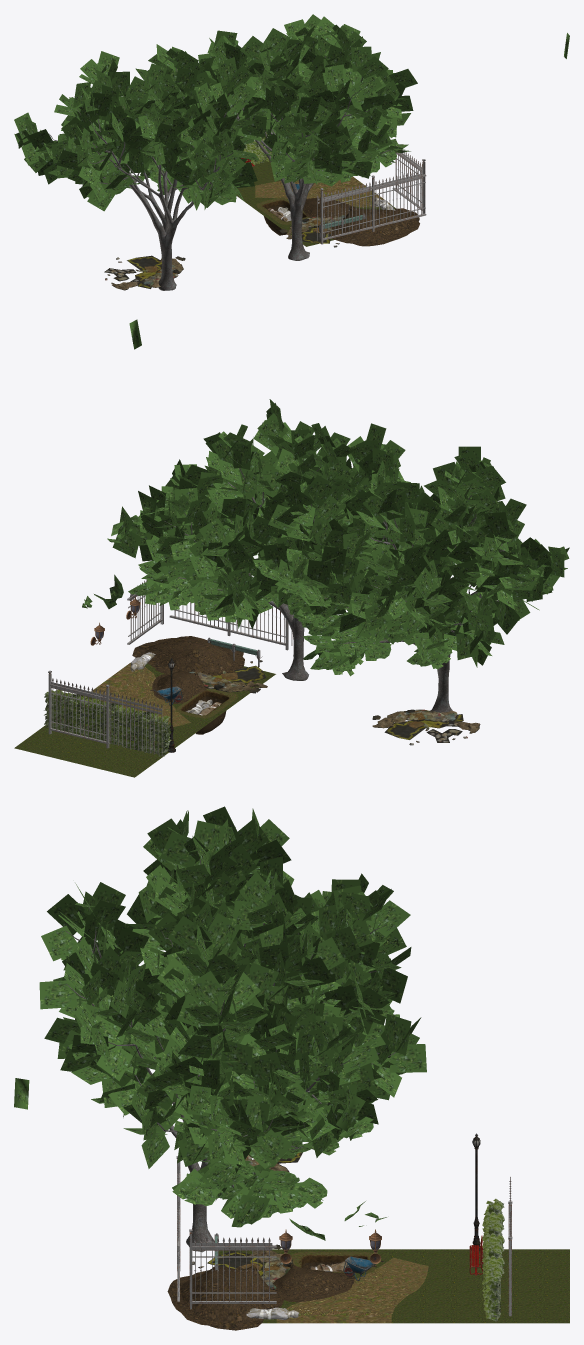
File: sm301_01_201room_02.fbx
3 views of the same model, one above another, from view 1: azimuth 30°, elevation 25°; view 2: azimuth 150°, elevation 25°; view 3: azimuth 270°, elevation 25° (orthographic). The views are drawn at different scales.
Visible parts, largest first — view 1: 0052_sm10006LargeTree01A00ms_1_Group_2_Sub_1__sm10_006__f997, 0048_sm10006LargeTree01A00ms_1_Group_0_Sub_1__sm10_006__f92f, 0041_sm25066townFence01A00ms_1_Group_0_Sub_1__st1_townP_e998, 0008_st42010Terrain00ms_1_Group_0_Sub_9__st1_GroundWild02_Ma, 0047_sm25011garbage01A00ms_1_Group_0_Sub_1__sm25_011_ga_d817, 0013_st42010Terrain00ms_1_Group_0_Sub_14__st1_GroundDec_951c, 0011_st42010Terrain00ms_1_Group_0_Sub_12__st1_GroundWild01_M, 0050_sm10006LargeTree01A00ms_1_Group_1_Sub_1__sm10_006__ad8f, 0012_st42010Terrain00ms_1_Group_0_Sub_13__st1_GroundBor_7a01, 0095_sm10014BoxWood01A00ms_1_Group_0_Sub_1__sm10_014_Bo_0bc4; view 2: 0052_sm10006LargeTree01A00ms_1_Group_2_Sub_1__sm10_006__f997, 0041_sm25066townFence01A00ms_1_Group_0_Sub_1__st1_townP_e998, 0011_st42010Terrain00ms_1_Group_0_Sub_12__st1_GroundWild01_M, 0008_st42010Terrain00ms_1_Group_0_Sub_9__st1_GroundWild02_Ma, 0095_sm10014BoxWood01A00ms_1_Group_0_Sub_1__sm10_014_Bo_0bc4, 0047_sm25011garbage01A00ms_1_Group_0_Sub_1__sm25_011_ga_d817, 0013_st42010Terrain00ms_1_Group_0_Sub_14__st1_GroundDec_951c, 0048_sm10006LargeTree01A00ms_1_Group_0_Sub_1__sm10_006__f92f, 0012_st42010Terrain00ms_1_Group_0_Sub_13__st1_GroundBor_7a01; view 3: 0052_sm10006LargeTree01A00ms_1_Group_2_Sub_1__sm10_006__f997, 0011_st42010Terrain00ms_1_Group_0_Sub_12__st1_GroundWild01_M, 0008_st42010Terrain00ms_1_Group_0_Sub_9__st1_GroundWild02_Ma, 0013_st42010Terrain00ms_1_Group_0_Sub_14__st1_GroundDec_951c, 0041_sm25066townFence01A00ms_1_Group_0_Sub_1__st1_townP_e998, 0047_sm25011garbage01A00ms_1_Group_0_Sub_1__sm25_011_ga_d817, 0095_sm10014BoxWood01A00ms_1_Group_0_Sub_1__sm10_014_Bo_0bc4, 0048_sm10006LargeTree01A00ms_1_Group_0_Sub_1__sm10_006__f92f, 0012_st42010Terrain00ms_1_Group_0_Sub_13__st1_GroundBor_7a01, 0094_sm10014BoxWood01A00ms_1_Group_0_Sub_1__sm10_014_Bo_2409.
Part boxes in pixels (bbox=[...]): 0052_sm10006LargeTree01A00ms_1_Group_2_Sub_1__sm10_006__f997: bbox=[14, 14, 569, 211]; 0048_sm10006LargeTree01A00ms_1_Group_0_Sub_1__sm10_006__f92f: bbox=[49, 56, 360, 290]; 0041_sm25066townFence01A00ms_1_Group_0_Sub_1__st1_townP_e998: bbox=[317, 149, 426, 244]; 0008_st42010Terrain00ms_1_Group_0_Sub_9__st1_GroundWild02_Ma: bbox=[264, 197, 419, 246]; 0047_sm25011garbage01A00ms_1_Group_0_Sub_1__sm25_011_ga_d817: bbox=[104, 215, 355, 290]; 0013_st42010Terrain00ms_1_Group_0_Sub_14__st1_GroundDec_951c: bbox=[255, 176, 391, 207]; 0011_st42010Terrain00ms_1_Group_0_Sub_12__st1_GroundWild01_M: bbox=[236, 159, 395, 246]; 0050_sm10006LargeTree01A00ms_1_Group_1_Sub_1__sm10_006__ad8f: bbox=[77, 46, 397, 192]; 0012_st42010Terrain00ms_1_Group_0_Sub_13__st1_GroundBor_7a01: bbox=[256, 197, 309, 224]; 0095_sm10014BoxWood01A00ms_1_Group_0_Sub_1__sm10_014_Bo_0bc4: bbox=[243, 132, 272, 164]; 0052_sm10006LargeTree01A00ms_1_Group_2_Sub_1__sm10_006__f997: bbox=[82, 319, 569, 676]; 0041_sm25066townFence01A00ms_1_Group_0_Sub_1__st1_townP_e998: bbox=[48, 579, 292, 755]; 0011_st42010Terrain00ms_1_Group_0_Sub_12__st1_GroundWild01_M: bbox=[14, 663, 275, 777]; 0008_st42010Terrain00ms_1_Group_0_Sub_9__st1_GroundWild02_Ma: bbox=[132, 636, 244, 734]; 0095_sm10014BoxWood01A00ms_1_Group_0_Sub_1__sm10_014_Bo_0bc4: bbox=[44, 696, 171, 756]; 0047_sm25011garbage01A00ms_1_Group_0_Sub_1__sm25_011_ga_d817: bbox=[189, 660, 480, 745]; 0013_st42010Terrain00ms_1_Group_0_Sub_14__st1_GroundDec_951c: bbox=[91, 662, 190, 726]; 0048_sm10006LargeTree01A00ms_1_Group_0_Sub_1__sm10_006__f92f: bbox=[164, 468, 507, 712]; 0012_st42010Terrain00ms_1_Group_0_Sub_13__st1_GroundBor_7a01: bbox=[176, 688, 237, 718]; 0052_sm10006LargeTree01A00ms_1_Group_2_Sub_1__sm10_006__f997: bbox=[14, 806, 426, 1240]; 0011_st42010Terrain00ms_1_Group_0_Sub_12__st1_GroundWild01_M: bbox=[218, 1249, 569, 1323]; 0008_st42010Terrain00ms_1_Group_0_Sub_9__st1_GroundWild02_Ma: bbox=[167, 1262, 355, 1330]; 0013_st42010Terrain00ms_1_Group_0_Sub_14__st1_GroundDec_951c: bbox=[276, 1257, 428, 1323]; 0041_sm25066townFence01A00ms_1_Group_0_Sub_1__st1_townP_e998: bbox=[176, 1156, 512, 1316]; 0047_sm25011garbage01A00ms_1_Group_0_Sub_1__sm25_011_ga_d817: bbox=[192, 1152, 302, 1290]; 0095_sm10014BoxWood01A00ms_1_Group_0_Sub_1__sm10_014_Bo_0bc4: bbox=[482, 1198, 504, 1321]; 0048_sm10006LargeTree01A00ms_1_Group_0_Sub_1__sm10_006__f92f: bbox=[65, 924, 387, 1252]; 0012_st42010Terrain00ms_1_Group_0_Sub_13__st1_GroundBor_7a01: bbox=[291, 1251, 376, 1273]; 0094_sm10014BoxWood01A00ms_1_Group_0_Sub_1__sm10_014_Bo_2409: bbox=[482, 1251, 504, 1317].
Size of the model in its own units: 25.5 by 13.59 by 19.34.
